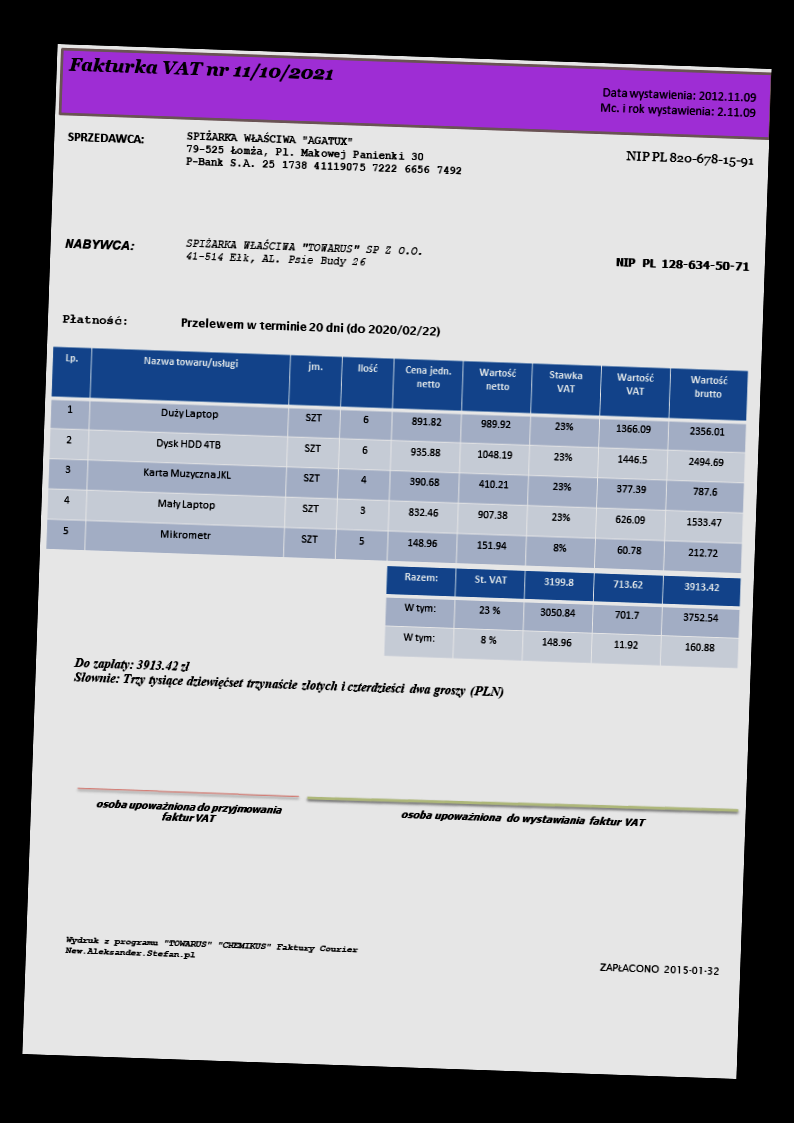Table: (43, 344, 749, 574), (383, 564, 741, 669)
TextBox: (70, 653, 507, 702), (181, 128, 464, 178), (62, 933, 360, 968), (182, 235, 425, 271), (65, 53, 335, 84), (399, 806, 649, 832), (178, 316, 442, 340), (93, 795, 283, 827), (596, 84, 759, 120), (613, 253, 751, 274), (622, 148, 755, 169), (596, 959, 721, 980), (65, 128, 145, 146), (62, 234, 135, 253), (60, 310, 130, 328)
